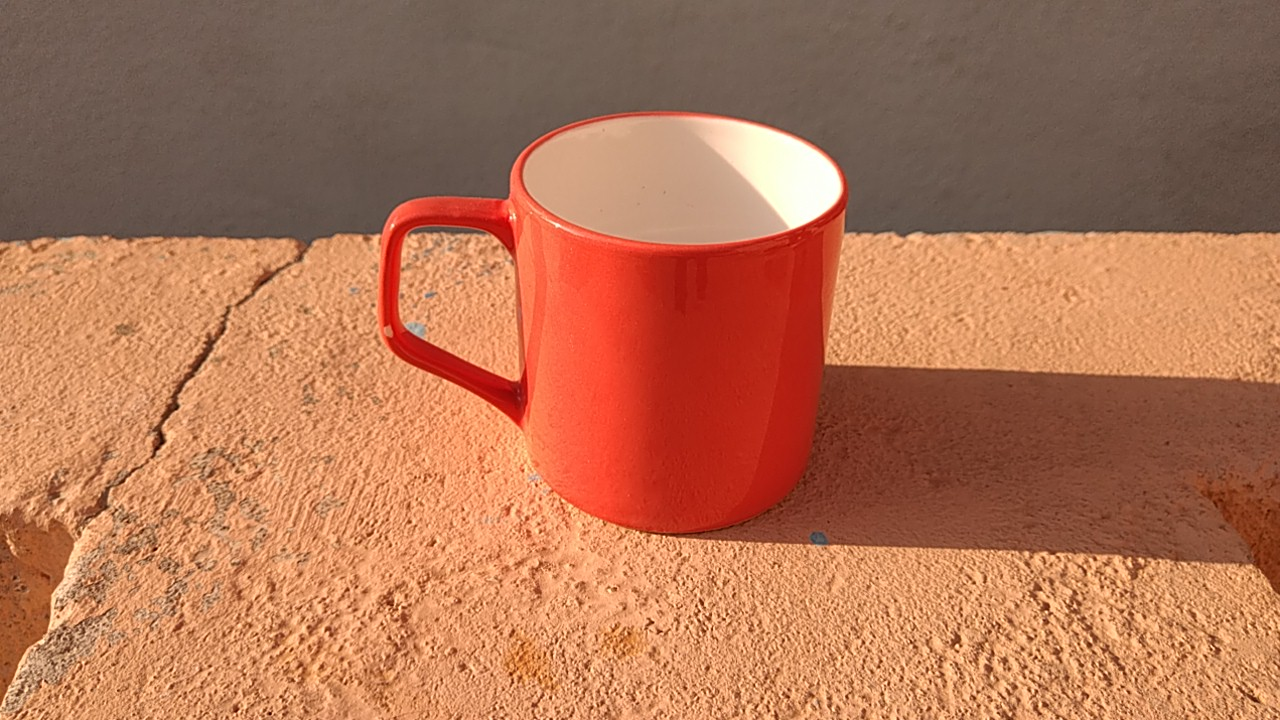cup: (368, 101, 866, 544)
